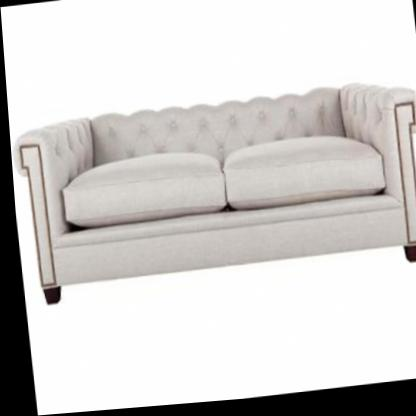Sofa: (6, 79, 416, 307)
